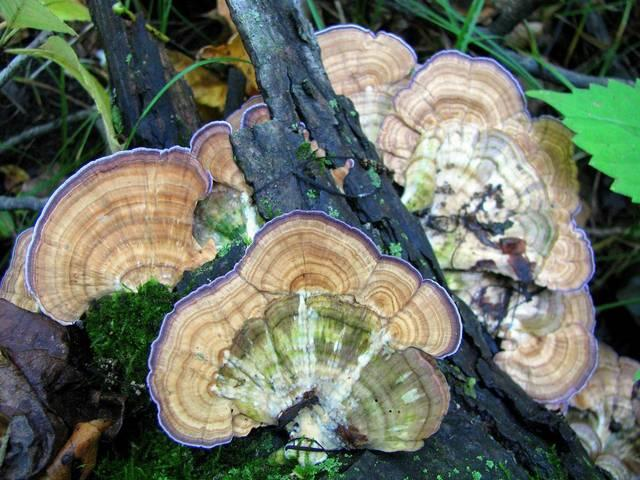poisonous_mushroom: (306, 20, 640, 454), (24, 84, 307, 383), (145, 207, 463, 465)
